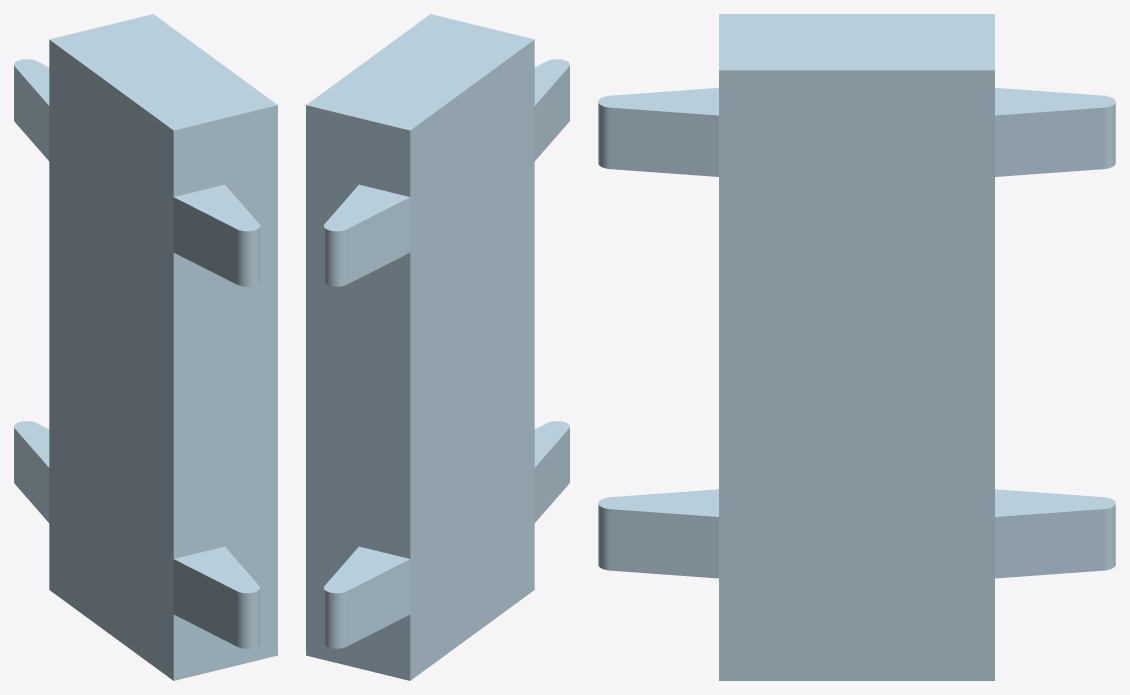
Rendered from _MfG1xwFWmgbtmCyEF.gltf.
3 renders of one model, left to right at view 1: azimuth 30°, elevation 25°; view 2: azimuth 150°, elevation 25°; view 3: azimuth 270°, elevation 25°, orthographic. The views are drawn at different scales.
Visible parts, largest first — view 1: Main; view 2: Main; view 3: Main.
Boxes of the visible parts, x1=… form: Main: x1=14, y1=14, x2=277, y2=680; Main: x1=306, y1=14, x2=569, y2=680; Main: x1=598, y1=14, x2=1115, y2=680.
Size of the model in its own units: 0.0492 by 0.2482 by 0.1906.
